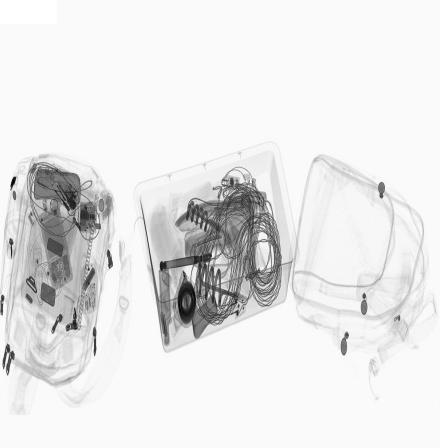Lighter: (50, 162, 70, 181)
